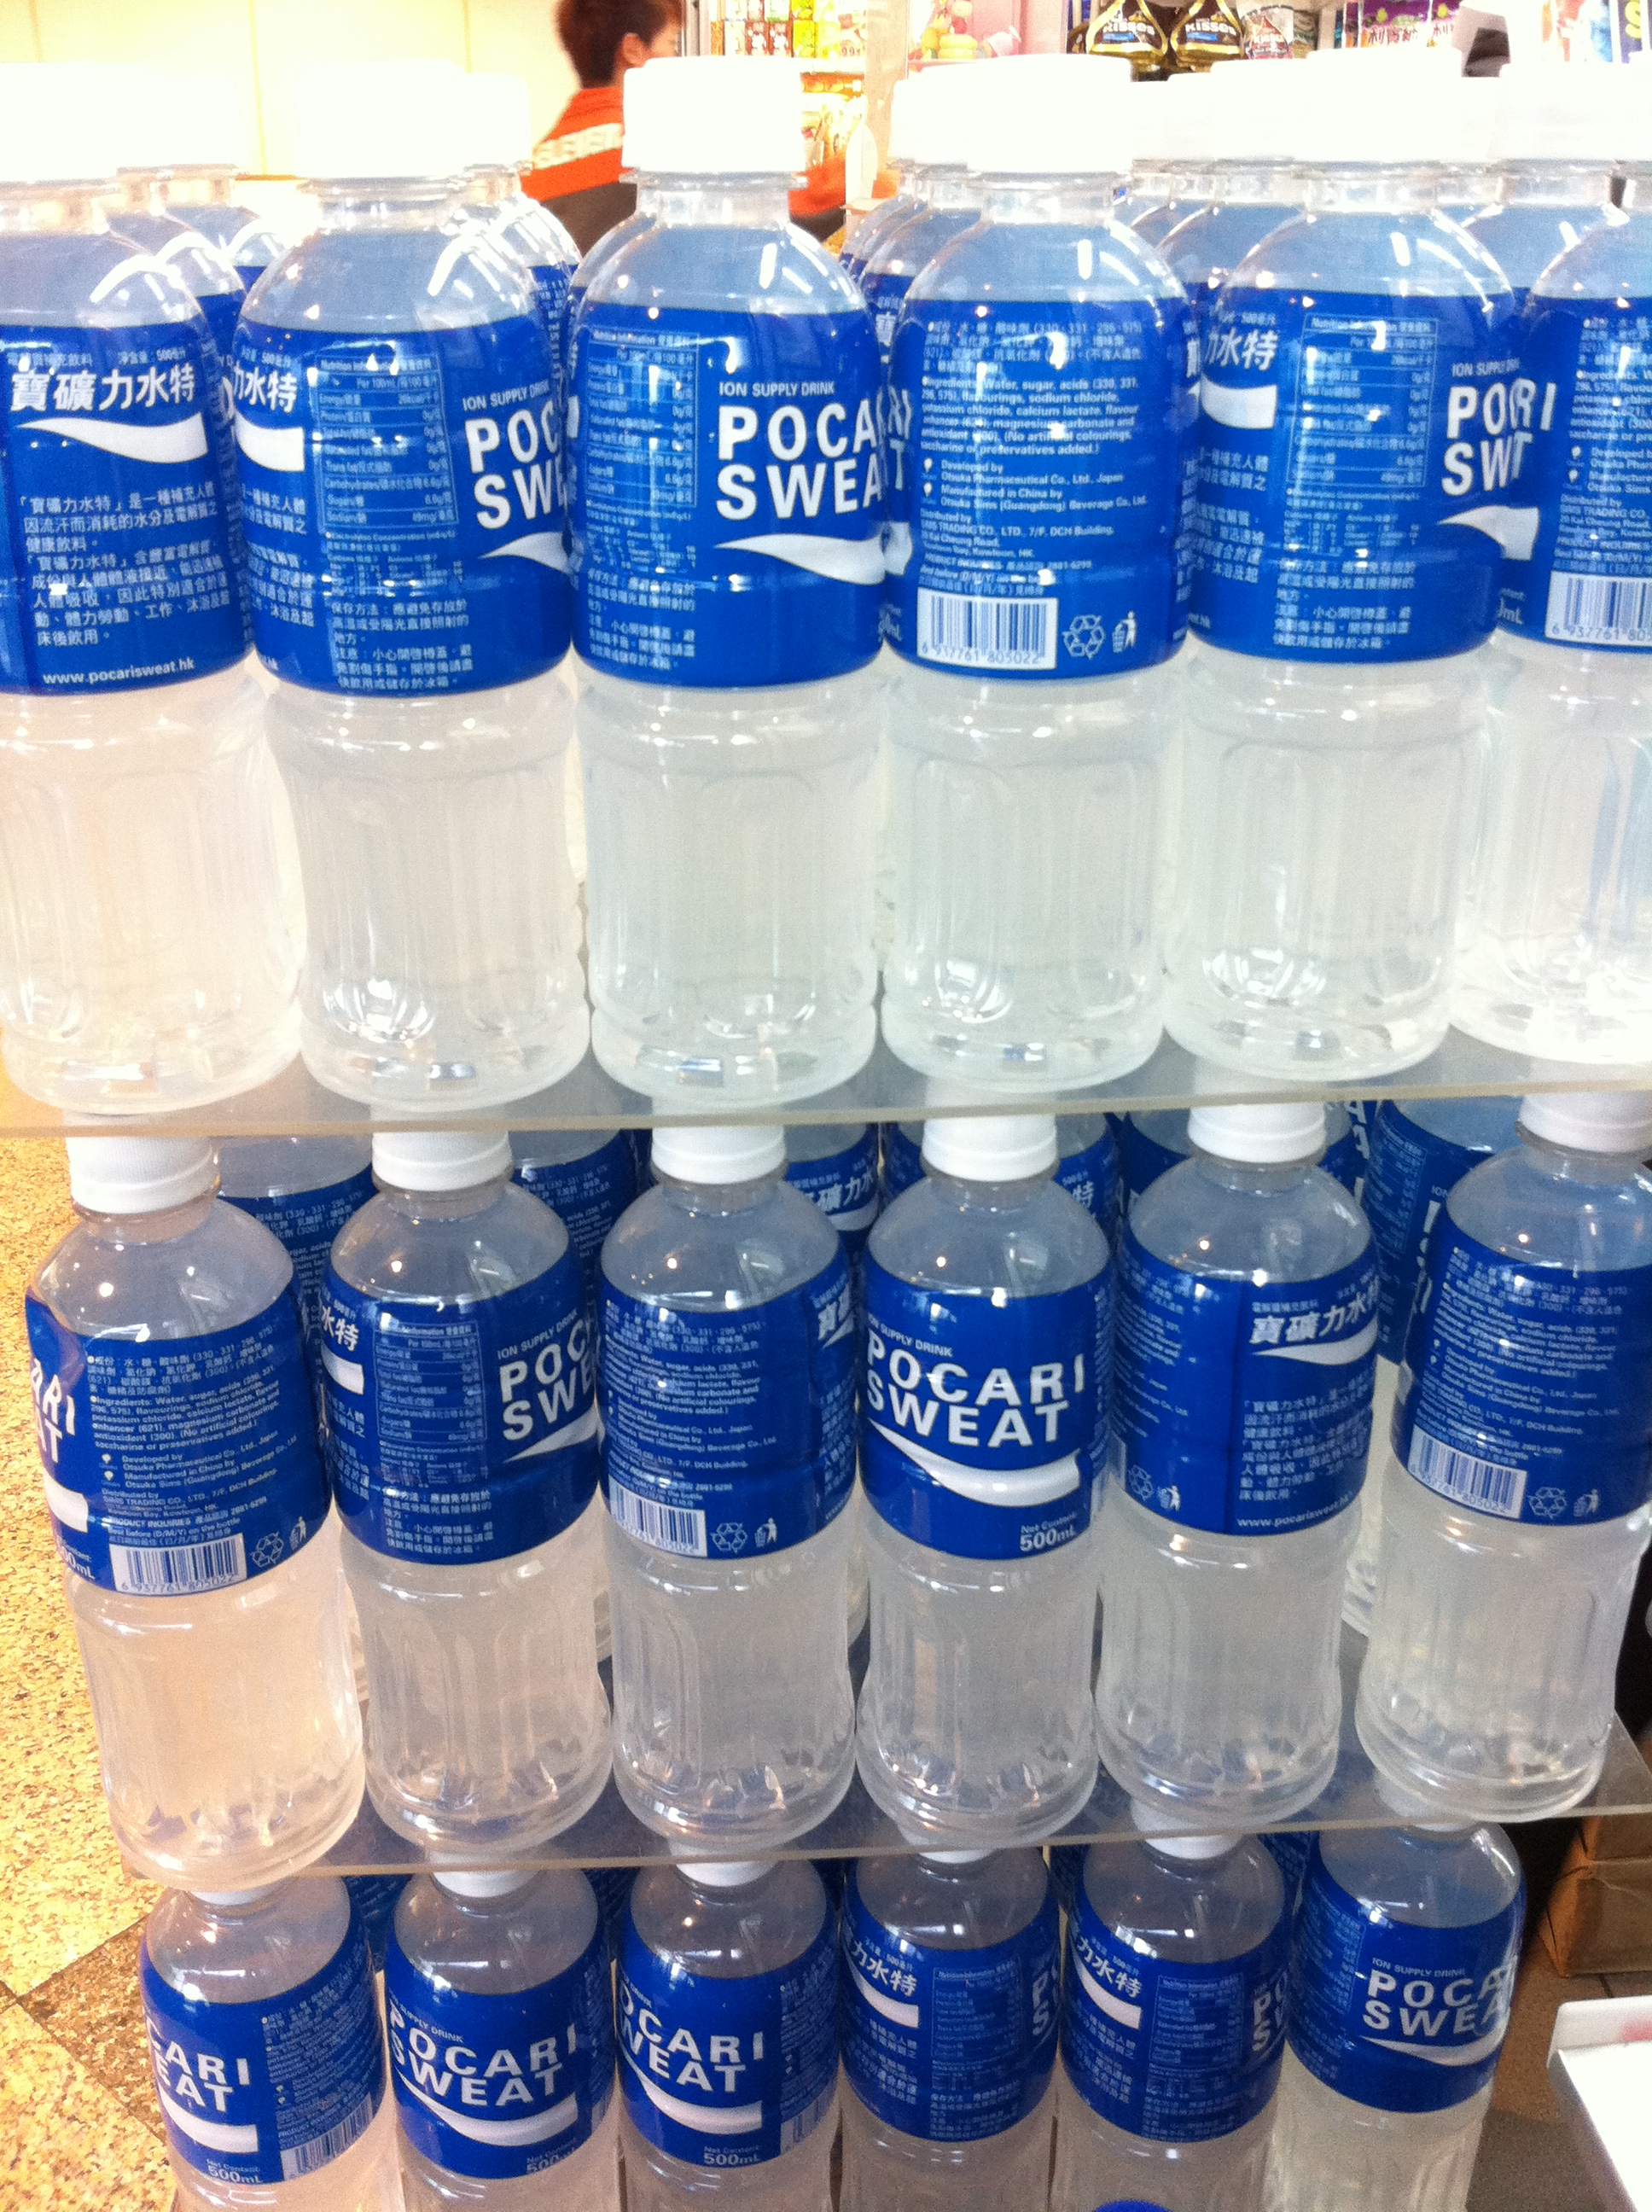POCARI SWEAT: (248, 64, 576, 1105), (585, 54, 880, 1091), (1182, 42, 1477, 1077), (882, 43, 1177, 1079), (0, 66, 239, 1105), (40, 1116, 328, 1855), (1359, 1098, 1643, 1810), (345, 1096, 595, 1848), (593, 1109, 850, 1839), (1116, 1105, 1369, 1820), (1477, 40, 1652, 1070), (876, 1107, 1114, 1827), (109, 1855, 359, 2212), (361, 1855, 609, 2212), (600, 1855, 849, 2212), (1312, 1844, 1539, 2212), (1069, 1844, 1295, 2212), (861, 1853, 1053, 2212)
